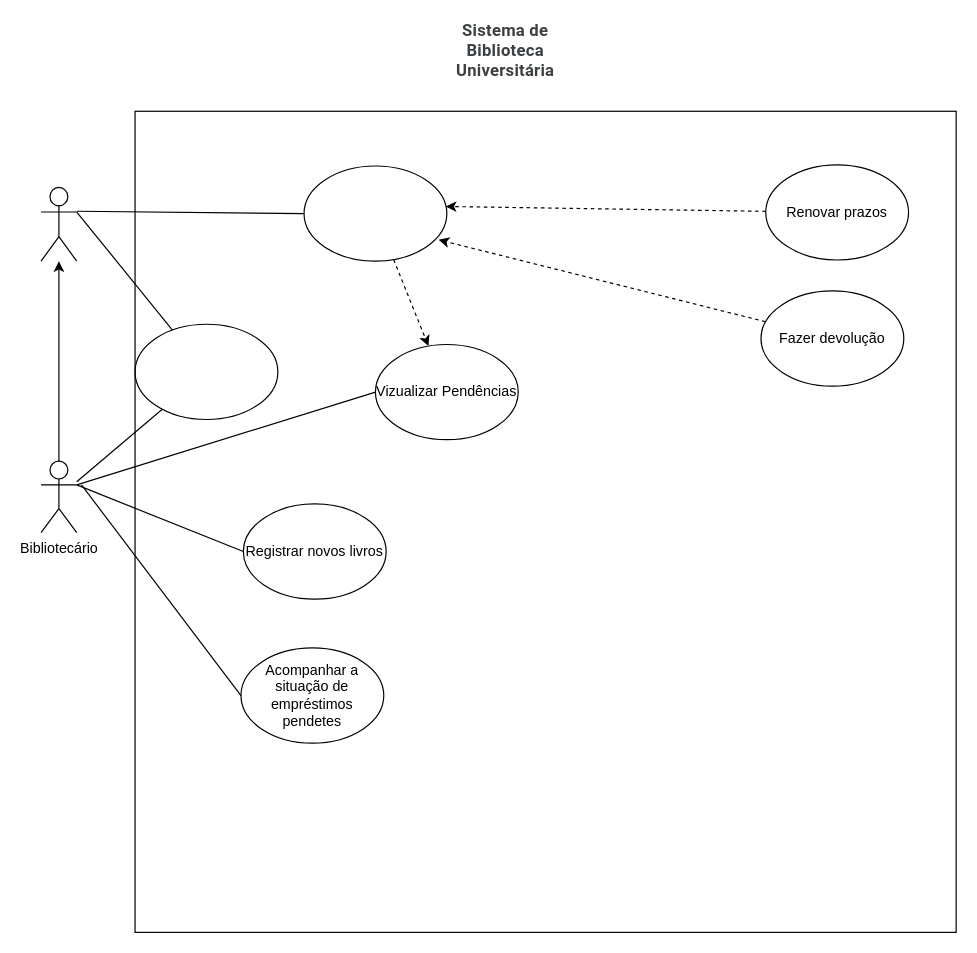
Image size: 977x953. Some labels were removed from this diagram. Each missing label, with the box of its shape:
Consultar catálogos de livros: (134, 323, 278, 419)
Realizar empréstimo: (303, 165, 447, 261)
Usuários: (40, 186, 77, 261)
